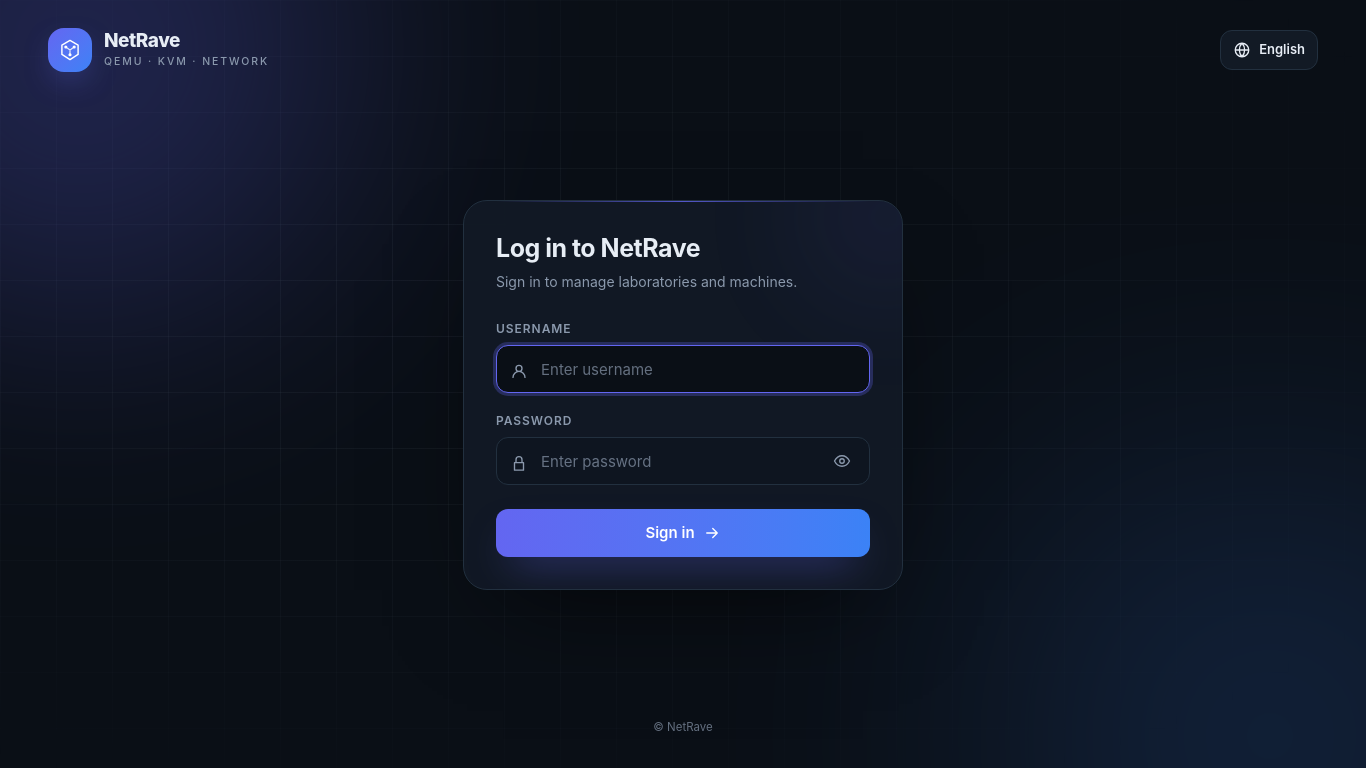
Test: LoginPage behaviour › shows a connection message when the server cannot be reached
Type "admin" into the field labelled "Username" at (683, 369), box [496,345,870,393]
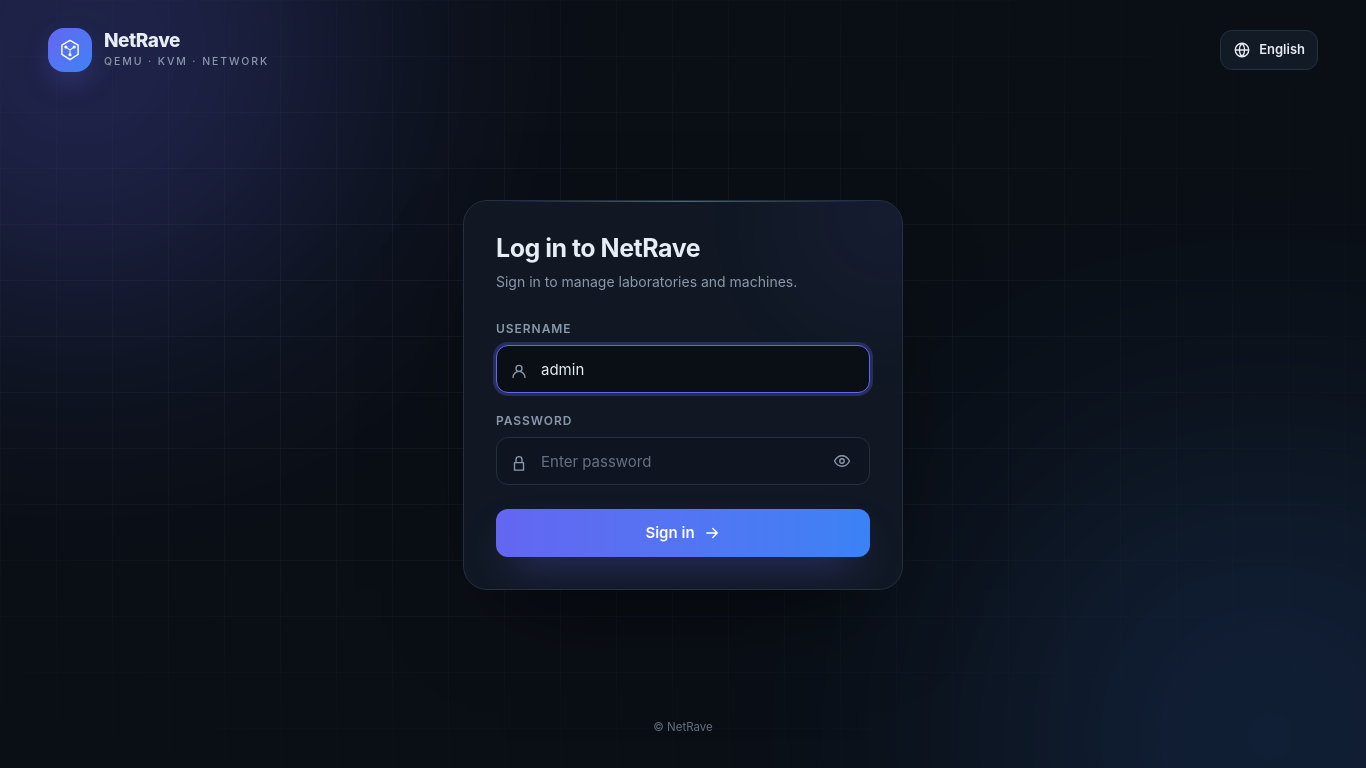
Type "secret" into the password field labelled "Password" at (683, 461), box [496,437,870,485]
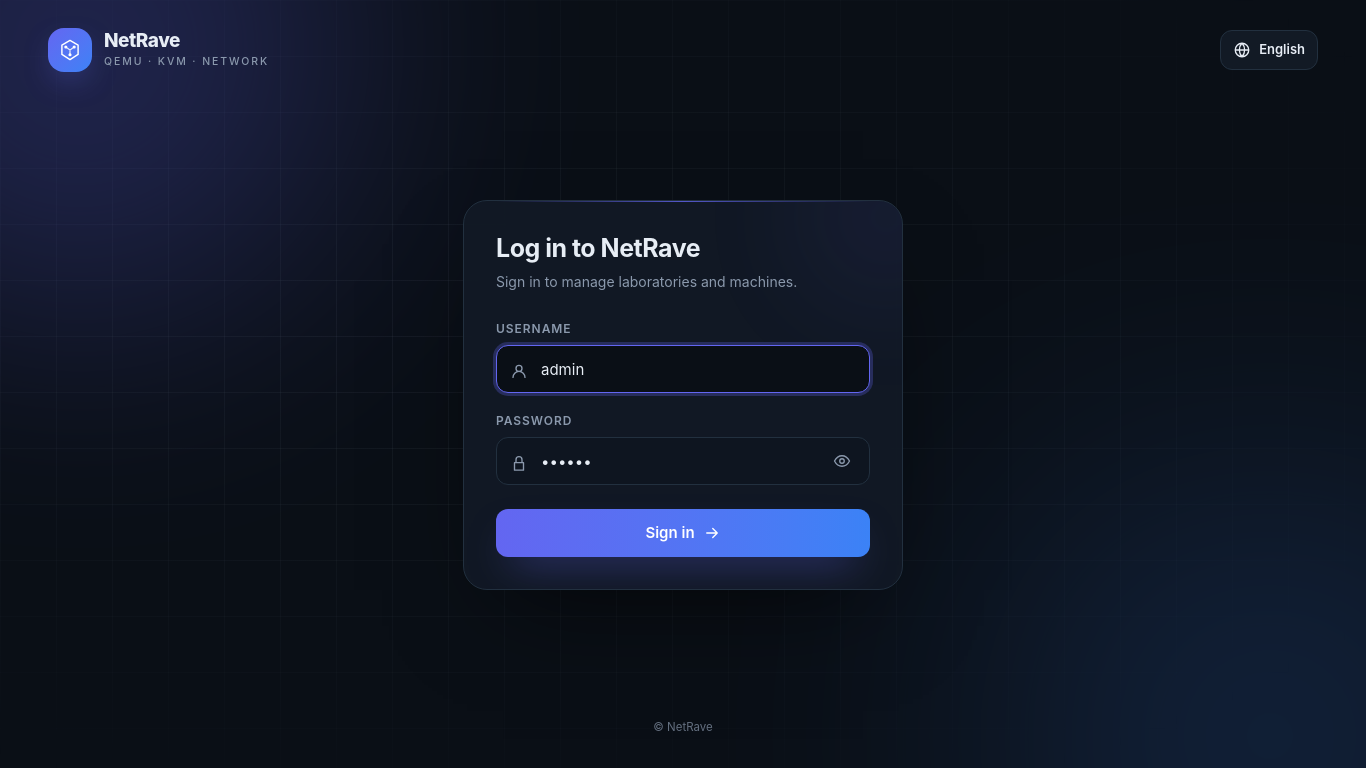
Click the button "Sign in" at (683, 533), box [496,509,870,557]
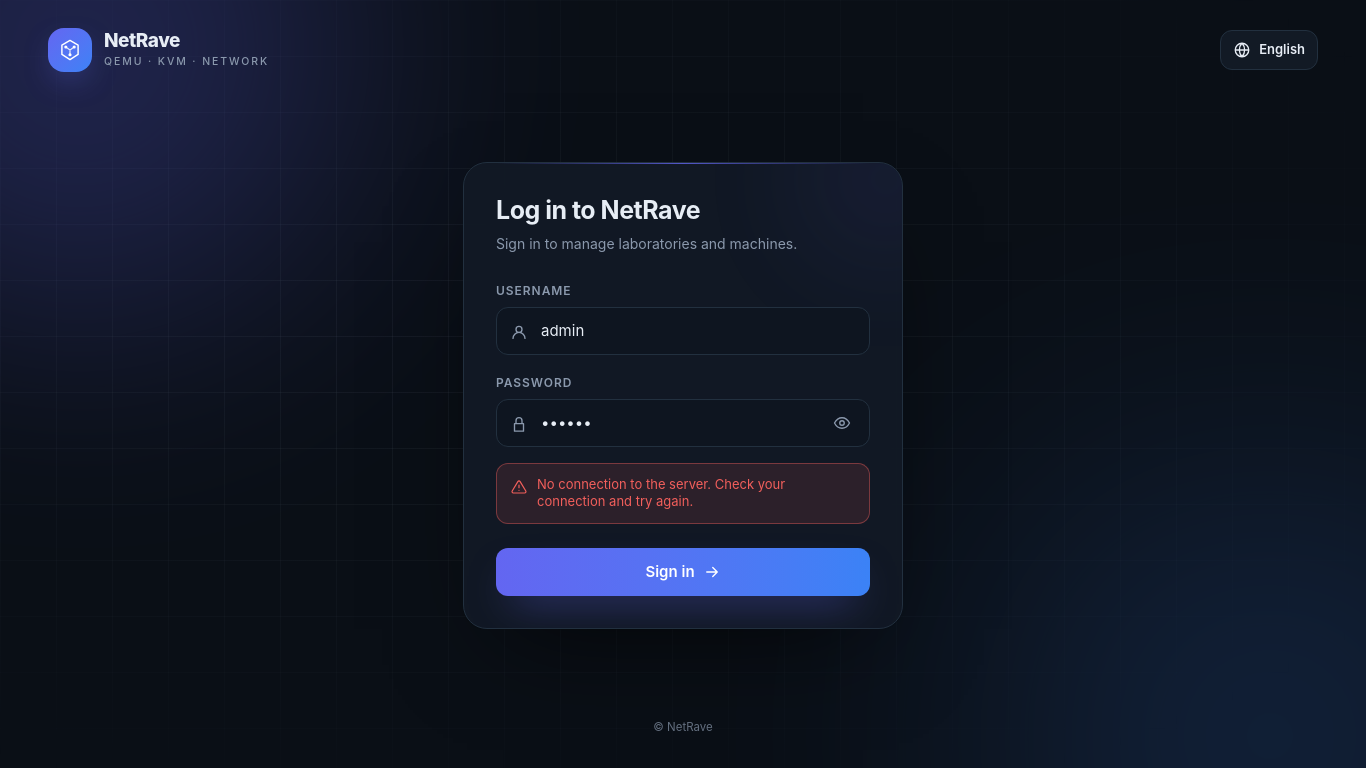
expect the message shows "No connection to the server": met, box [537,476,785,509]
